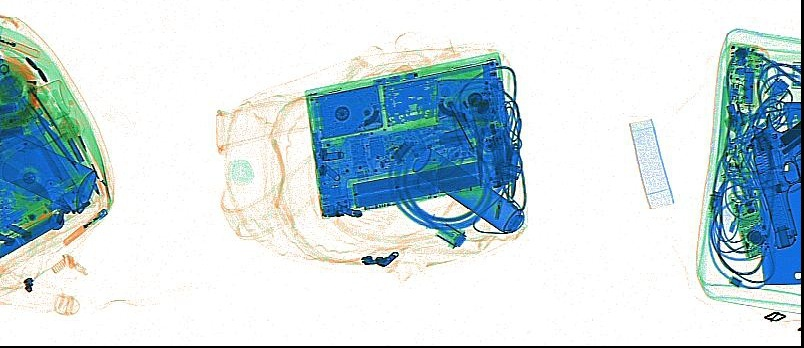knife: (755, 129, 799, 285)
pressure: (411, 145, 527, 233), (1, 127, 96, 214)
scissors: (467, 119, 488, 190)
